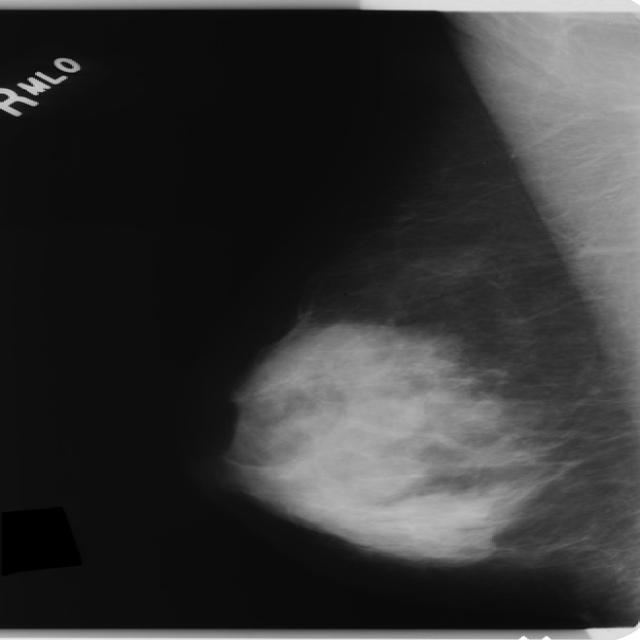tumour: (344, 454, 426, 496)
